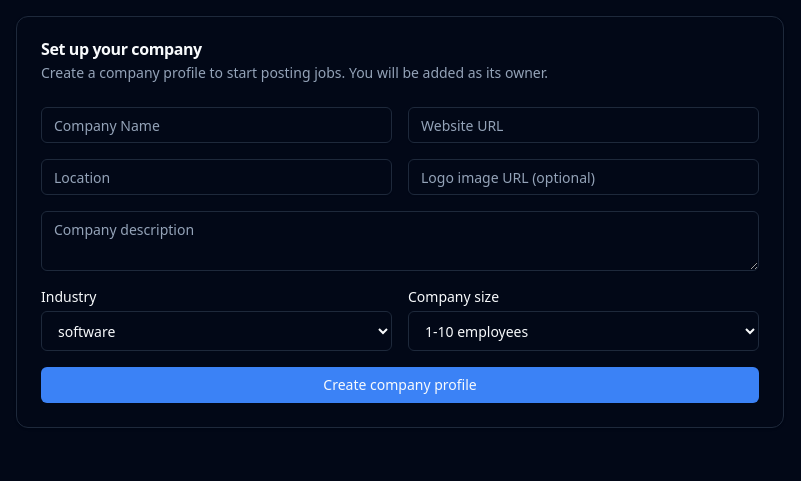
Test case: CompanySetupForm › renders API failures and validates malformed company URLs
Step 1. Type "Northstar" into the field labelled "Company Name" → (216, 125), box [41, 107, 392, 143]
Step 2. Type "not a url" into the field named "Company website" → (584, 125), box [408, 107, 759, 143]
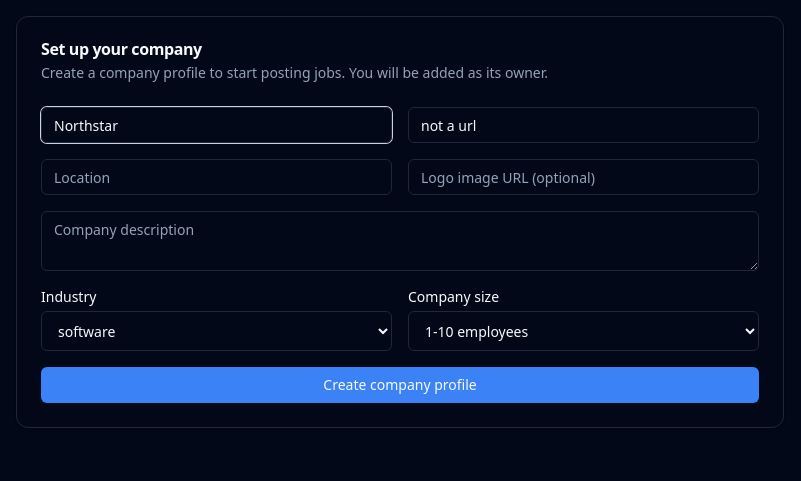
Step 3. Type "Remote" into the field named "Company location" → (216, 177), box [41, 159, 392, 195]
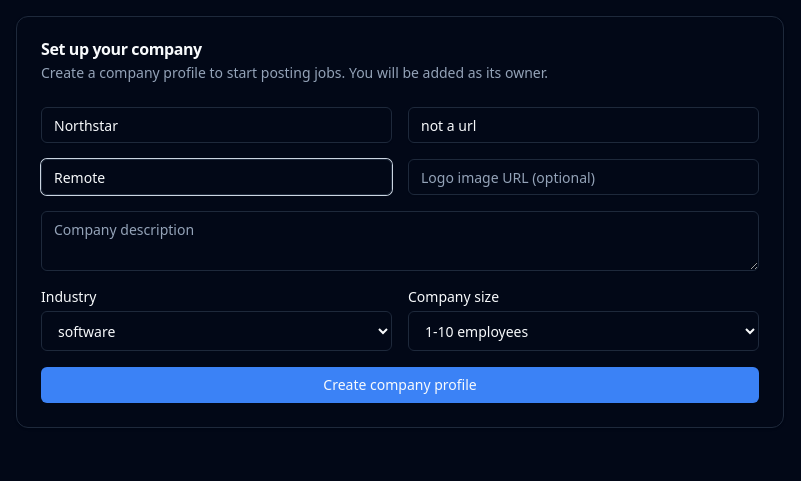
Step 4. Type "A growing product company." into the text box labelled "Company description" → (400, 241), box [41, 211, 759, 271]
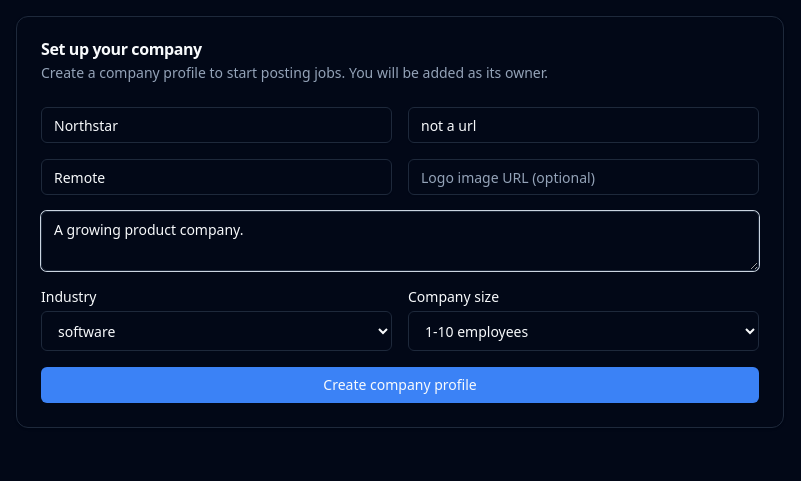
Step 5. Click the button "Create company profile" → (400, 385), box [41, 367, 759, 403]
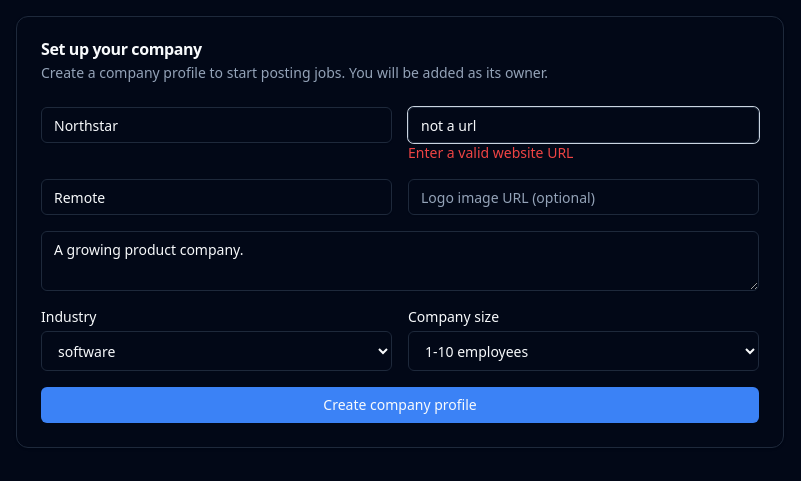
Expected: the text "Enter a valid website URL" is shown, [408, 143, 573, 162]
Step 6. Replace the text in the field named "Company website" with "https://northstar.example" → (584, 125), box [408, 107, 759, 143]
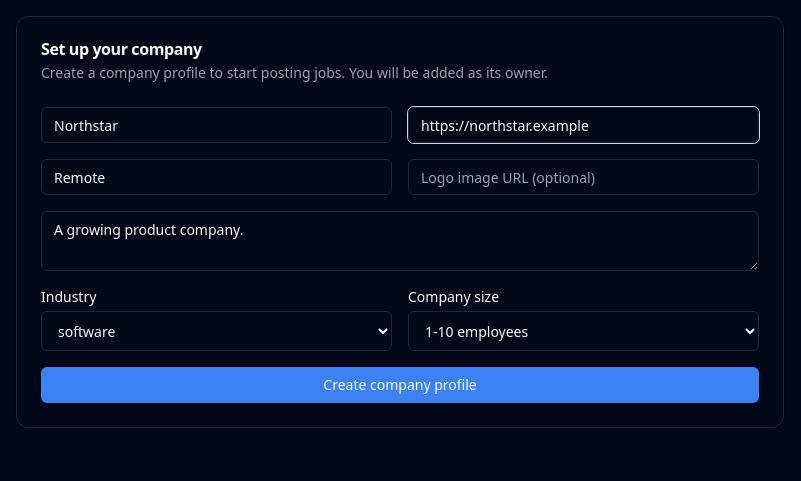
Step 7. Click the button "Create company profile" → (400, 385), box [41, 367, 759, 403]
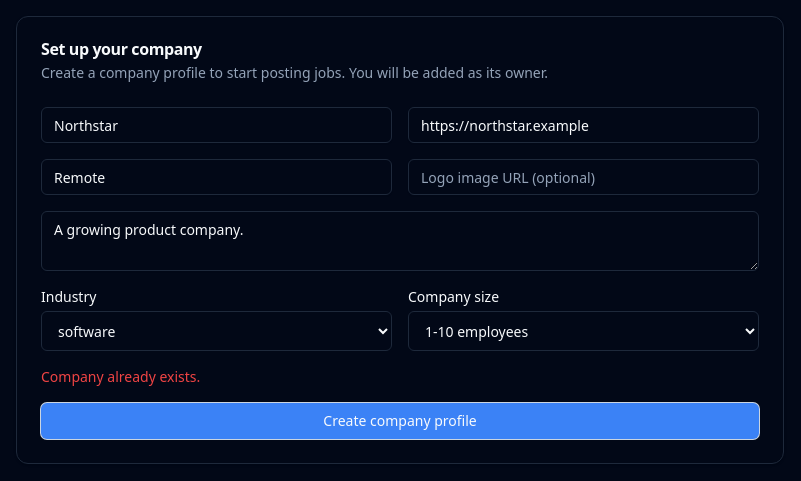
Expected: the message reads "Company already exists.", [41, 367, 200, 386]
